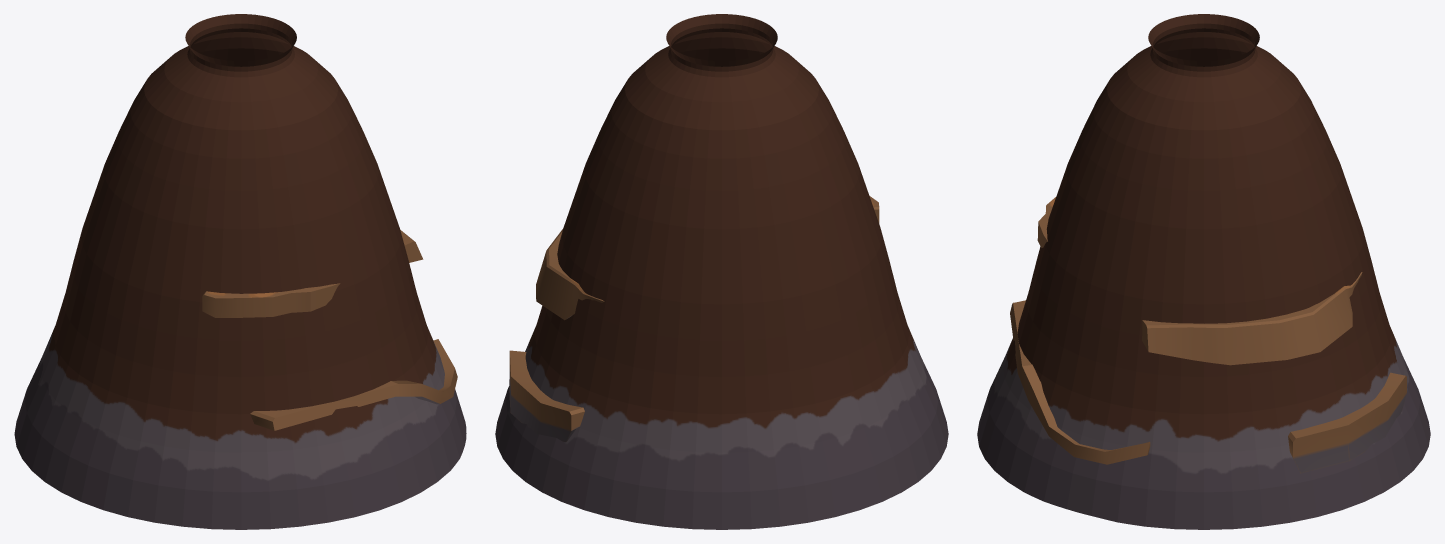
The model's file is MoundTerrain.fbx.
3 renders of one model, left to right at view 1: azimuth 30°, elevation 25°; view 2: azimuth 150°, elevation 25°; view 3: azimuth 270°, elevation 25°, orthographic.
Visible parts, largest first — view 1: MoundModel, TerrainModel; view 2: MoundModel, TerrainModel; view 3: MoundModel, TerrainModel.
Boxes of the visible parts, x1,y1,x2,y2 form: MoundModel: [14, 14, 466, 529]; TerrainModel: [202, 230, 457, 430]; MoundModel: [495, 14, 948, 529]; TerrainModel: [509, 196, 879, 442]; MoundModel: [977, 14, 1430, 529]; TerrainModel: [1010, 197, 1406, 473].
Size of the model in its own units: 4903 by 5053 by 4905.
